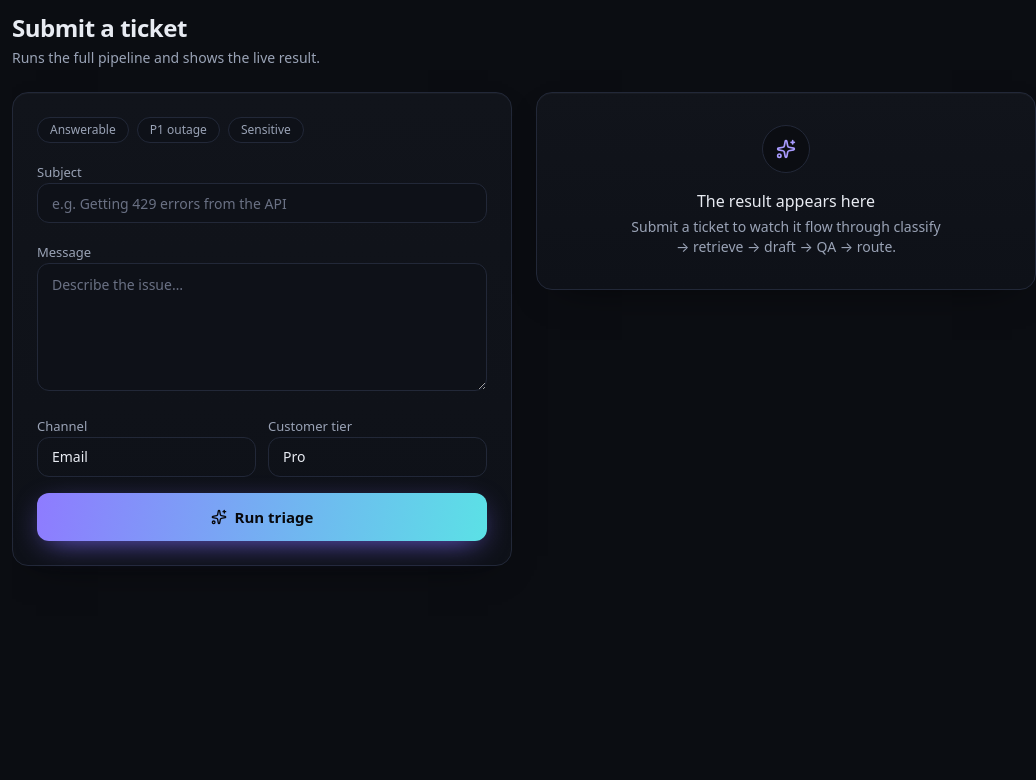
Test case: SubmitPage → ResultState › shows the escalation reason count and no reply for an escalated ticket
This screenshot has width=1036, height=780.
Step 1. Click the button "P1 outage" → (178,130), box [137,117,220,143]
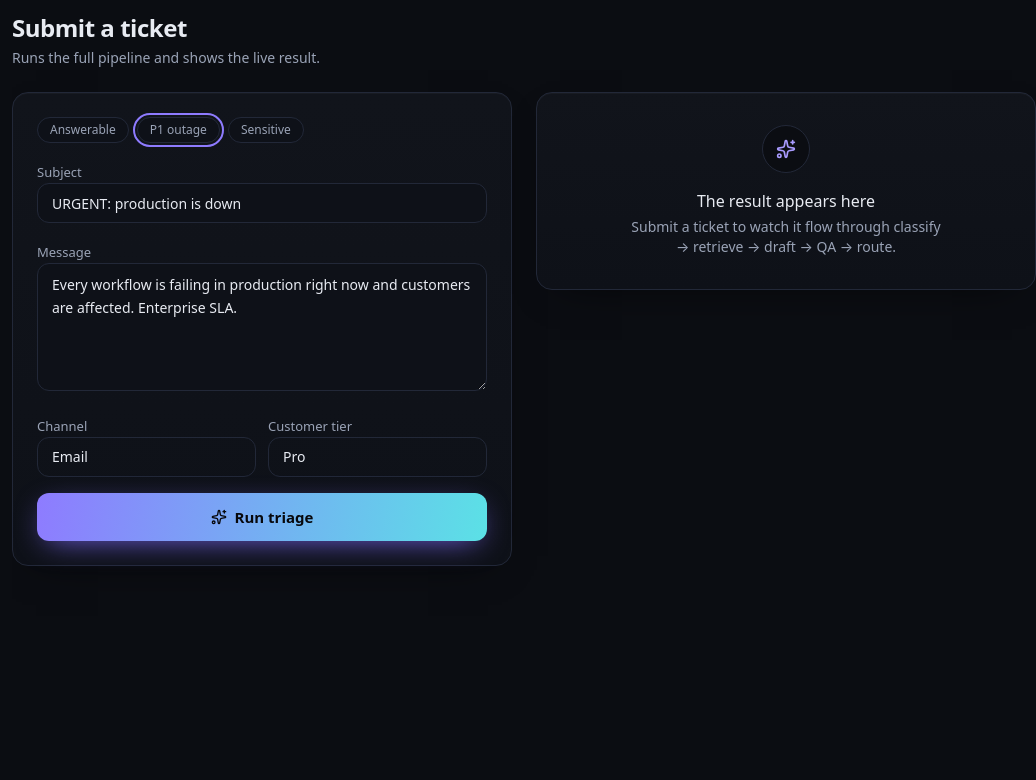
Step 2. Click the button "Run triage" → (262,517), box [37,493,487,541]
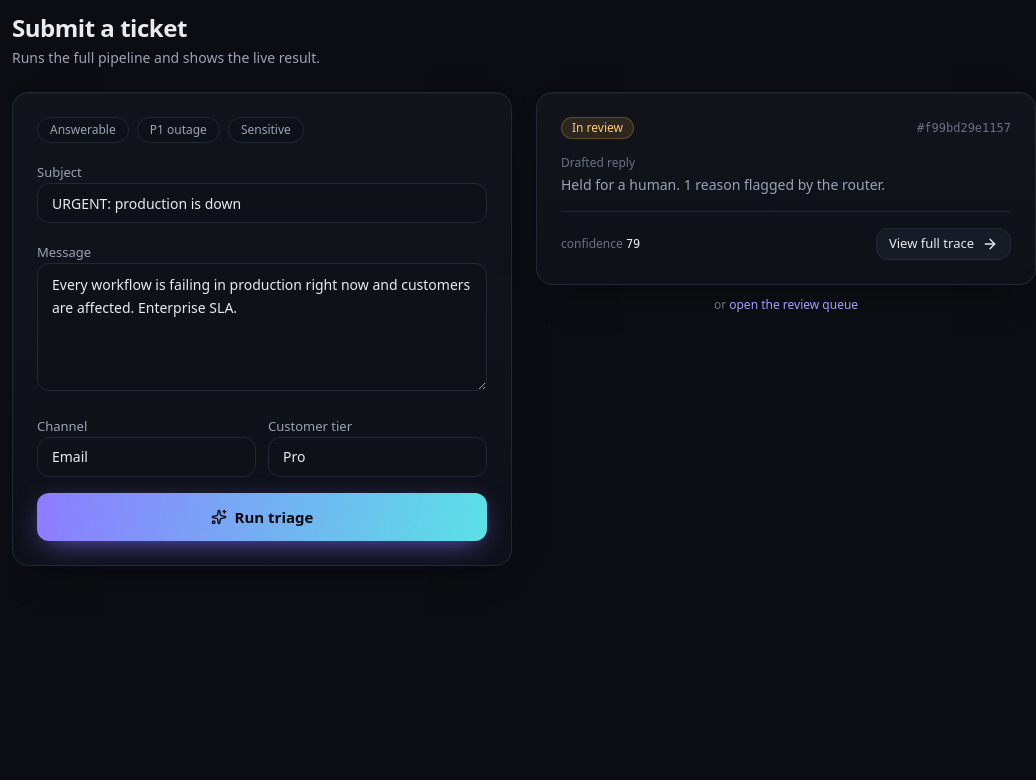
Now the text "In review" is shown, box [561,117,634,139]
Now the text "Held for a human. 1 reason flagged by the router." is shown, box [561,175,885,194]
